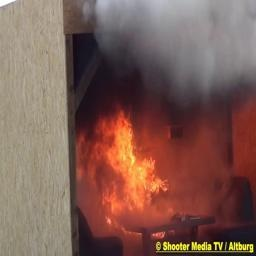fire: (77, 105, 173, 228)
